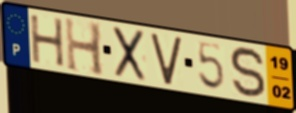5: (196, 40, 227, 92)
H: (63, 15, 107, 79), (28, 13, 67, 69)
S: (228, 45, 268, 100)
V: (149, 33, 184, 87)
X: (112, 25, 147, 83)
